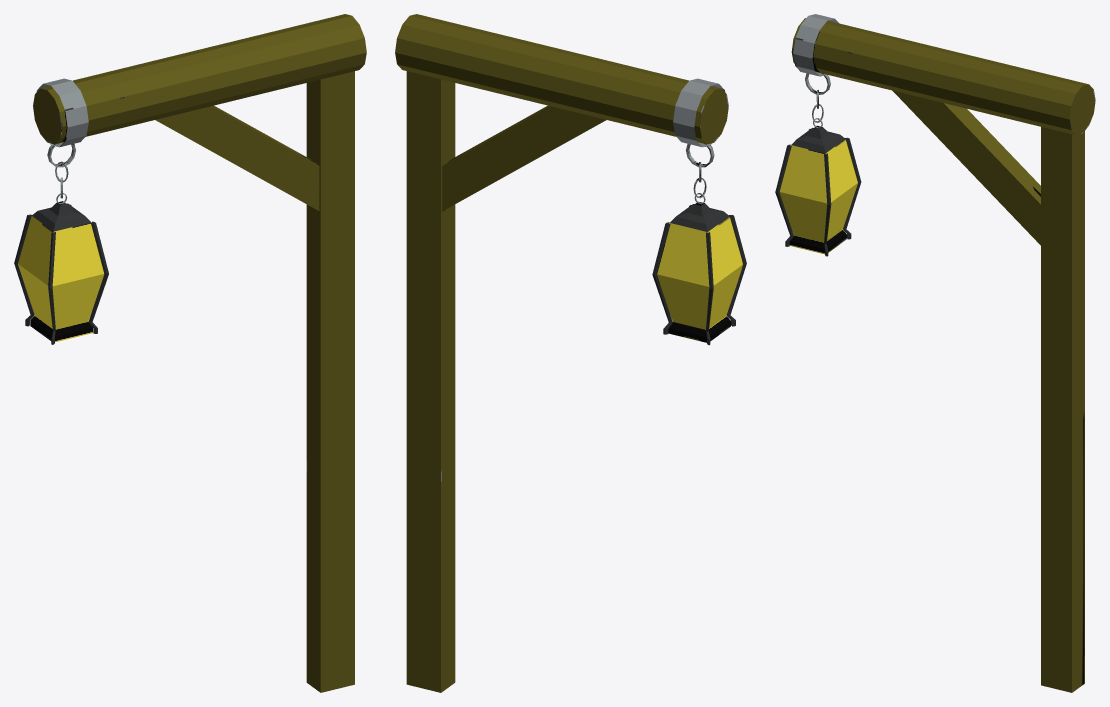
File: flashlight_pillar.fbx
3 renders of one model, left to right at view 1: azimuth 30°, elevation 25°; view 2: azimuth 150°, elevation 25°; view 3: azimuth 330°, elevation 25°, orthographic. The views are drawn at different scales.
Parts seen in each view (by area): view 1: Cube.002; view 2: Cube.002; view 3: Cube.002.
Boxes of the visible parts, box(x1,y1,x2,y2) form: Cube.002: box(14, 14, 366, 692); Cube.002: box(395, 14, 746, 692); Cube.002: box(775, 14, 1095, 692).
Bounding box in the file's own units: 354 × 703 × 67.49.
1 material, 1 textured.
